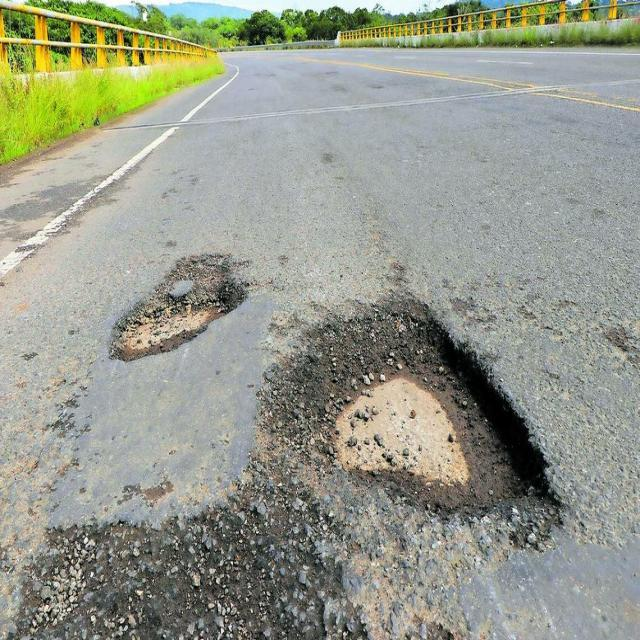Buraco: (0, 286, 573, 640), (104, 249, 250, 364)
